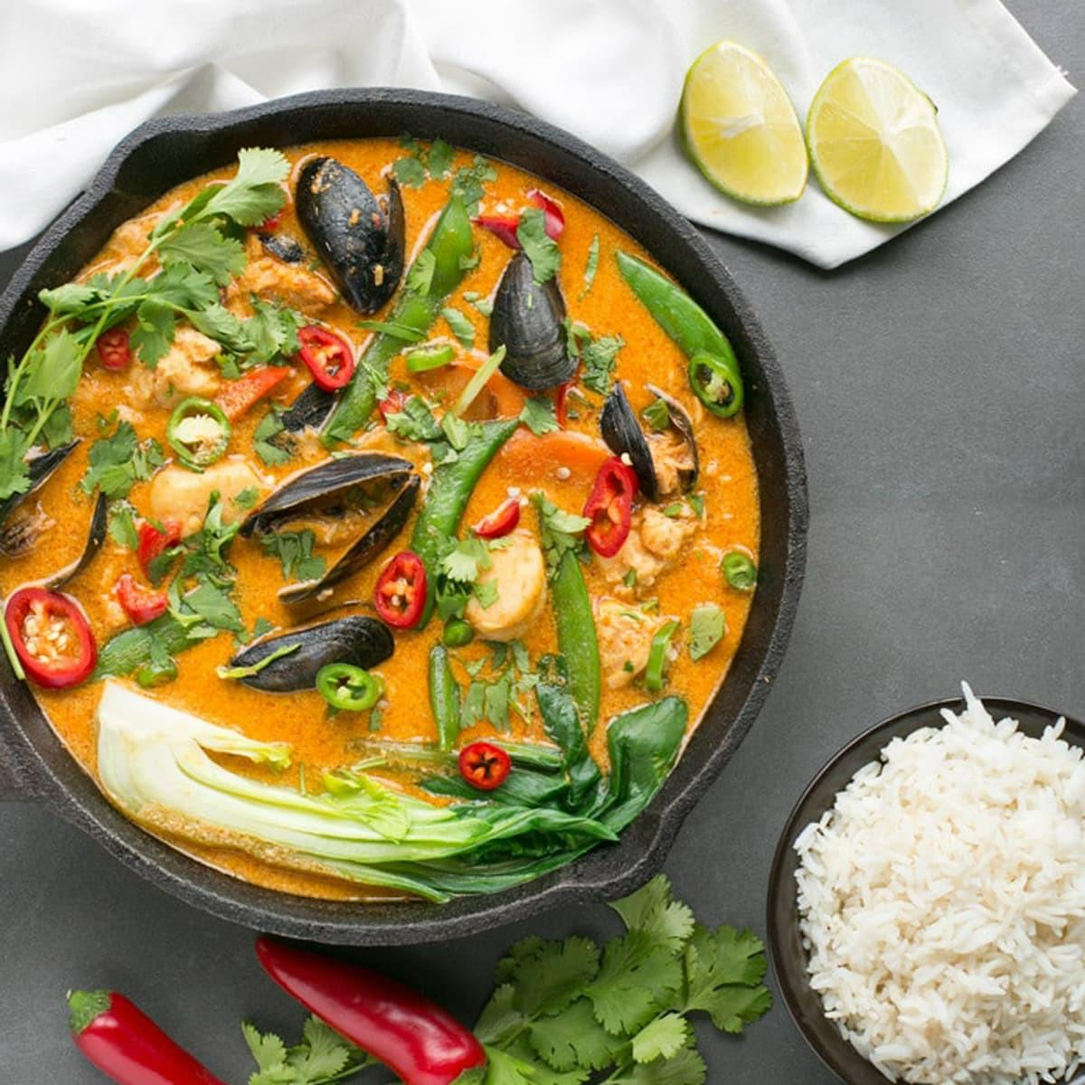FishCurry: (0, 134, 759, 905)
